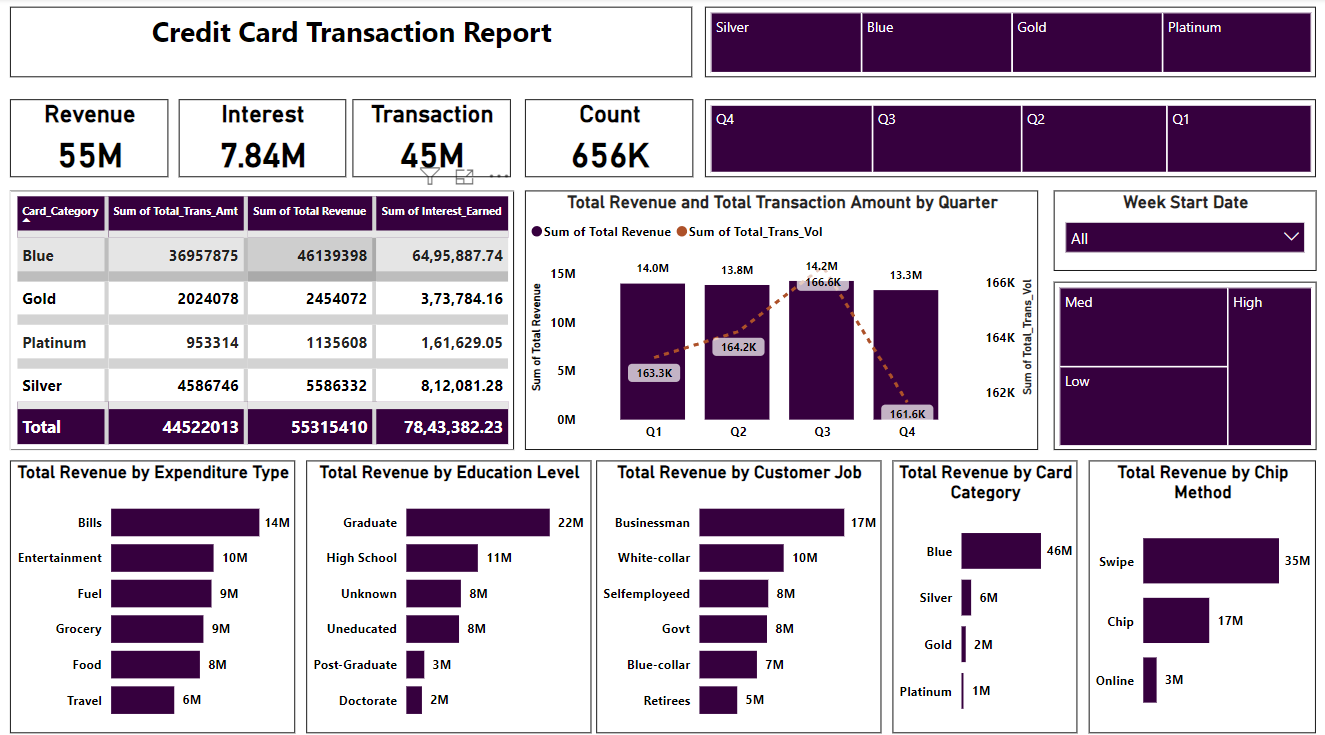

This screenshot's page, from the dashboard's own definition file:
{"tool":"powerbi","page":{"name":"CC Transaction","canvas":[1280,720],"ordinal":0},"visuals":[{"type":"textbox","box":[10.1,8.6,658.1,67.7],"z":0},{"type":"lineStackedColumnComboChart","title":"Total Revenue and Total Transaction Amount by Quarter","fields":{"Category":["credit_card.Qtr"],"Y":["Sum(credit_card.Total Revenue)"],"Y2":["Sum(credit_card.Total_Trans_Vol)"]},"box":[506.9,185.8,495.4,250.6],"z":1000},{"type":"barChart","title":"Total Revenue by Expenditure Type","fields":{"Y":["Sum(credit_card.Total Revenue)"],"Category":["credit_card.Exp Type"]},"box":[10.1,446.4,275,263.5],"z":2000},{"type":"barChart","title":"Total Revenue by Education Level","fields":{"Y":["Sum(credit_card.Total Revenue)"],"Category":["customer.Education_Level"]},"box":[295.2,446.4,275,263.5],"z":3000},{"type":"barChart","title":"Total Revenue by Customer Job","fields":{"Y":["Sum(credit_card.Total Revenue)"],"Category":["customer.Customer_Job"]},"box":[576,446.4,275,263.5],"z":4000},{"type":"barChart","title":"Total Revenue by Card Category","fields":{"Y":["Sum(credit_card.Total Revenue)"],"Category":["credit_card.Card_Category"]},"box":[861.1,446.4,178.6,263.5],"z":5000},{"type":"barChart","title":"Total Revenue by Chip Method","fields":{"Y":["Sum(credit_card.Total Revenue)"],"Category":["credit_card.Use Chip"]},"box":[1051.2,446.4,218.9,263.5],"z":6000},{"type":"tableEx","fields":{"Values":["credit_card.Card_Category","Sum(credit_card.Total_Trans_Amt)","Sum(credit_card.Total Revenue)","Sum(credit_card.Interest_Earned)"]},"box":[10.1,185.8,486.7,250.6],"z":7000},{"type":"card","title":"Revenue","fields":{"Values":["Sum(credit_card.Total Revenue)"]},"box":[10.1,97.9,152.6,74.9],"z":8000},{"type":"card","title":"Interest","fields":{"Values":["Sum(credit_card.Interest_Earned)"]},"box":[172.8,97.9,161.3,74.9],"z":9000},{"type":"card","title":"Transaction ","fields":{"Values":["Sum(credit_card.Total_Trans_Amt)"]},"box":[339.8,97.9,152.6,74.9],"z":10000},{"type":"card","title":"Count","fields":{"Values":["Sum(credit_card.Total_Trans_Vol)"]},"box":[506.9,97.9,162.7,74.9],"z":11000},{"type":"slicer","title":"Week Start Date","fields":{"Values":["credit_card.Week_Start_Date"]},"box":[1016.6,185.8,253.4,77.8],"z":12000},{"type":"treemap","fields":{"Group":["credit_card.Qtr"],"Values":["Avg(credit_card.Client_Num)"]},"box":[680.3,97.8,589.6,75.1],"z":13000},{"type":"treemap","fields":{"Values":["Avg(credit_card.Client_Num)"],"Group":["credit_card.Card_Category"]},"box":[680.3,8.5,589.6,68],"z":15000},{"type":"treemap","fields":{"Values":["Avg(credit_card.Client_Num)"],"Group":["customer.Income Category"]},"box":[1016.6,273.6,253.4,162.7],"z":16000}]}

Visuals, with their boxes in screenshot pixels (x1, y1, x2, y2), scaled from the page's 1280x720 canvas onto the 1325x735 screenshot:
textbox: pyautogui.locateOnScreen(10, 9, 692, 78)
"Total Revenue and Total Transaction Amount by Quarter" lineStackedColumnComboChart: pyautogui.locateOnScreen(525, 190, 1038, 445)
"Total Revenue by Expenditure Type" barChart: pyautogui.locateOnScreen(10, 456, 295, 725)
"Total Revenue by Education Level" barChart: pyautogui.locateOnScreen(306, 456, 590, 725)
"Total Revenue by Customer Job" barChart: pyautogui.locateOnScreen(596, 456, 881, 725)
"Total Revenue by Card Category" barChart: pyautogui.locateOnScreen(891, 456, 1076, 725)
"Total Revenue by Chip Method" barChart: pyautogui.locateOnScreen(1088, 456, 1315, 725)
tableEx - credit_card.Card_Category x Sum(credit_card.Total_Trans_Amt): pyautogui.locateOnScreen(10, 190, 514, 445)
"Revenue" card: pyautogui.locateOnScreen(10, 100, 168, 176)
"Interest" card: pyautogui.locateOnScreen(179, 100, 346, 176)
"Transaction " card: pyautogui.locateOnScreen(352, 100, 510, 176)
"Count" card: pyautogui.locateOnScreen(525, 100, 693, 176)
"Week Start Date" slicer: pyautogui.locateOnScreen(1052, 190, 1315, 269)
treemap - credit_card.Qtr x Avg(credit_card.Client_Num): pyautogui.locateOnScreen(704, 100, 1315, 177)
treemap - Avg(credit_card.Client_Num) x credit_card.Card_Category: pyautogui.locateOnScreen(704, 9, 1315, 78)
treemap - Avg(credit_card.Client_Num) x customer.Income Category: pyautogui.locateOnScreen(1052, 279, 1315, 445)
